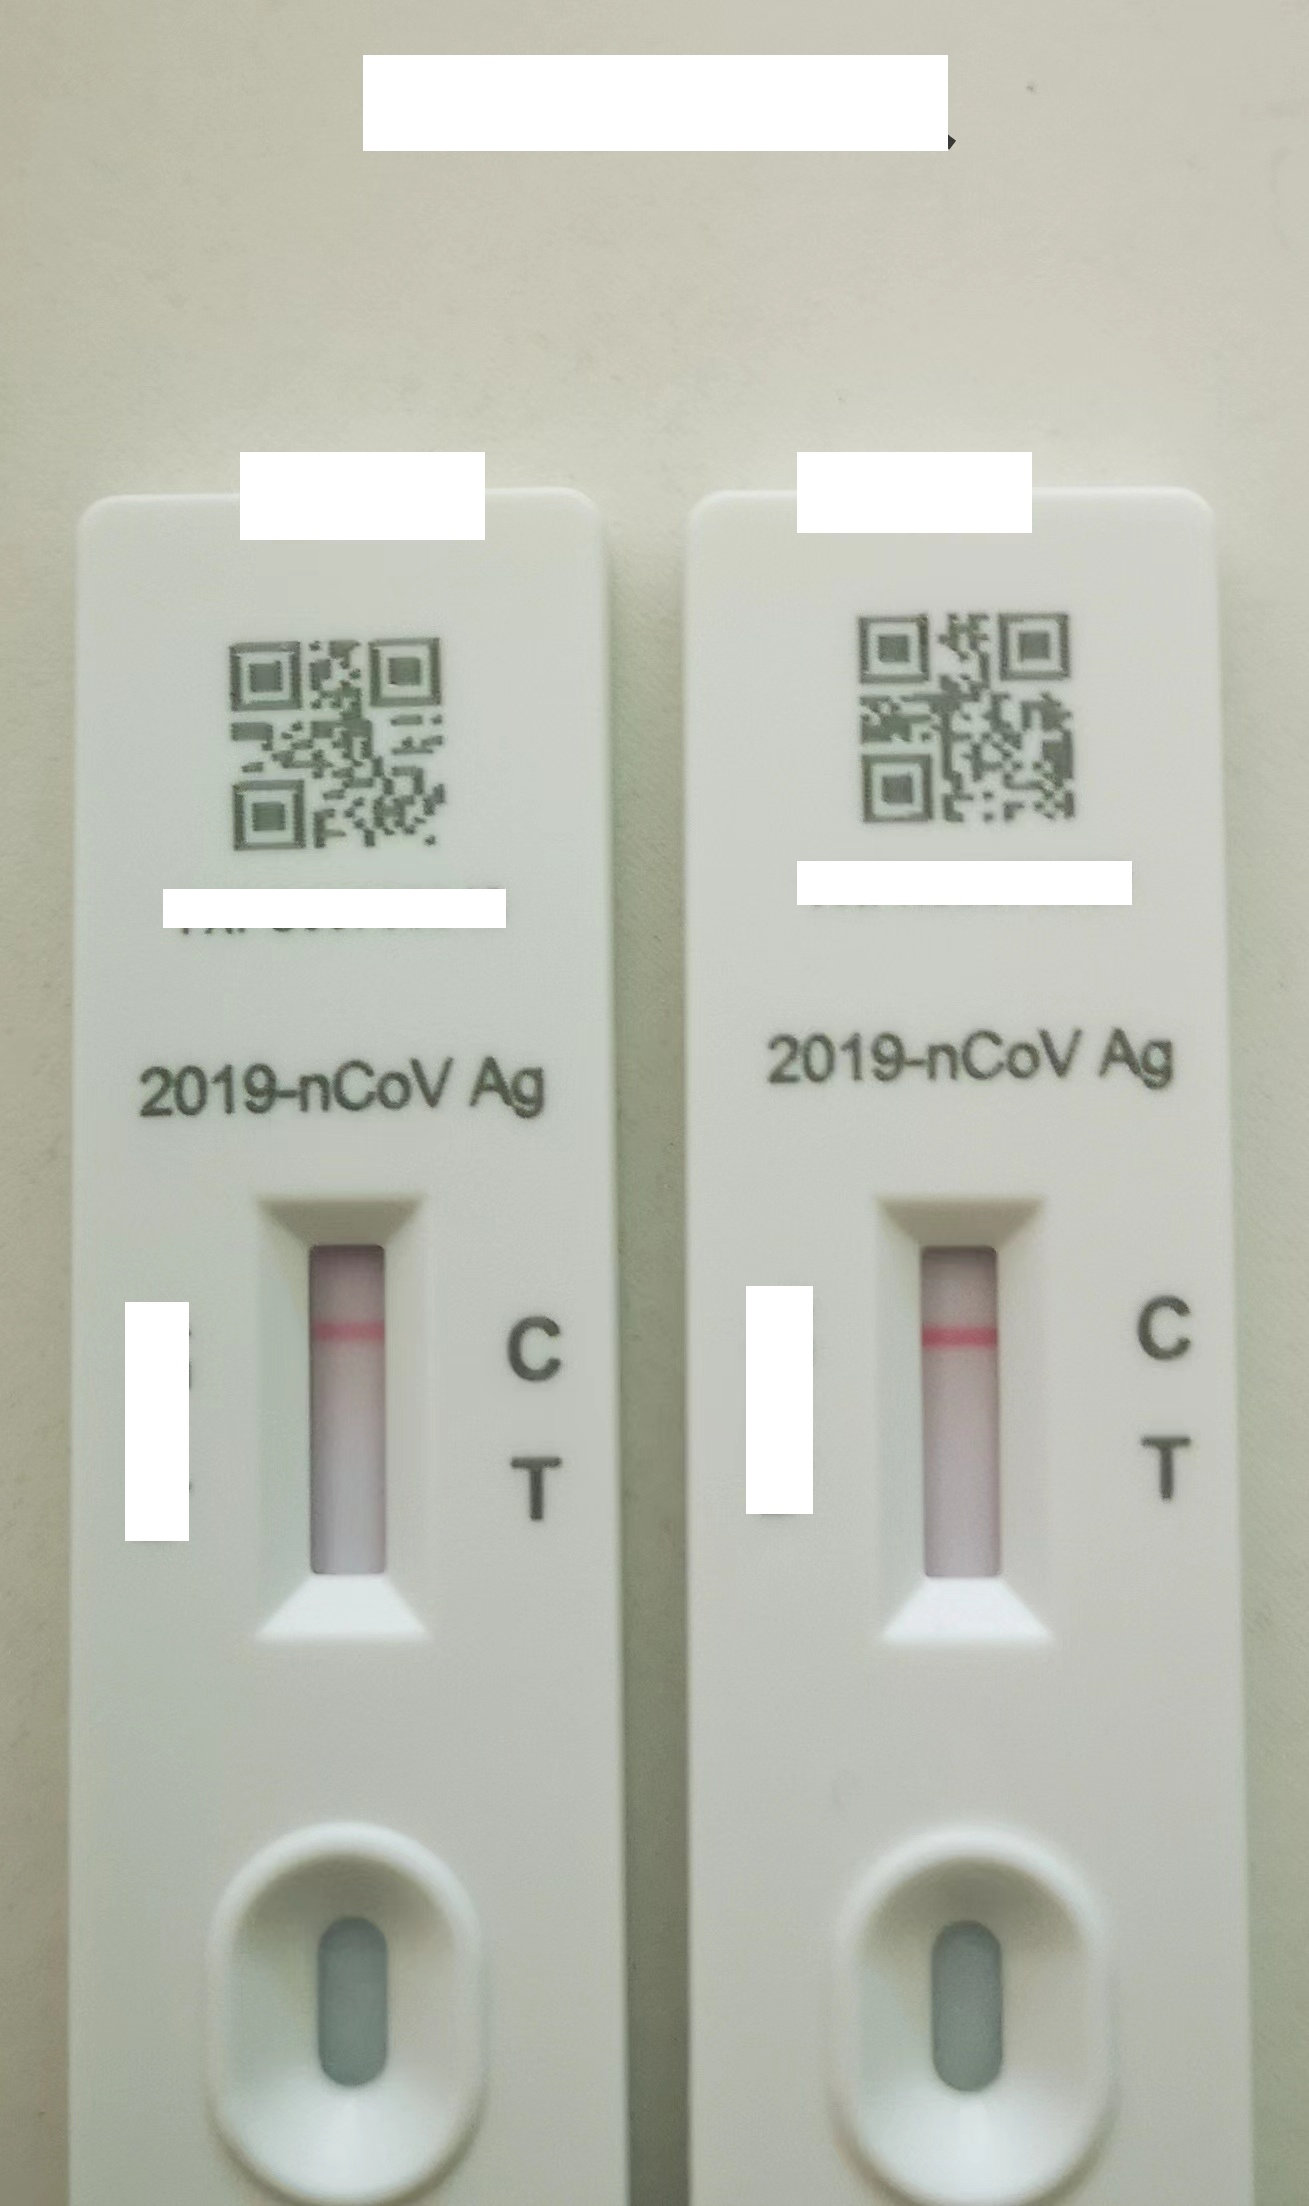negative: (887, 1190, 1028, 1644), (280, 1190, 407, 1628)
